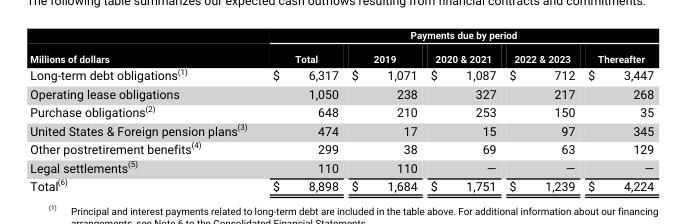table: (29, 29, 653, 193)
table column: (29, 29, 259, 193), (259, 29, 344, 193), (344, 29, 423, 193), (423, 29, 502, 193), (502, 29, 580, 193), (580, 29, 653, 193)
table column header: (29, 29, 653, 65)
table row: (29, 46, 653, 65), (29, 65, 653, 84), (29, 138, 653, 157), (29, 84, 653, 102), (29, 102, 653, 120), (29, 120, 653, 138), (29, 157, 653, 175), (29, 175, 653, 193), (29, 29, 653, 46)
table spanning cell: (29, 29, 259, 65), (259, 29, 653, 46)
